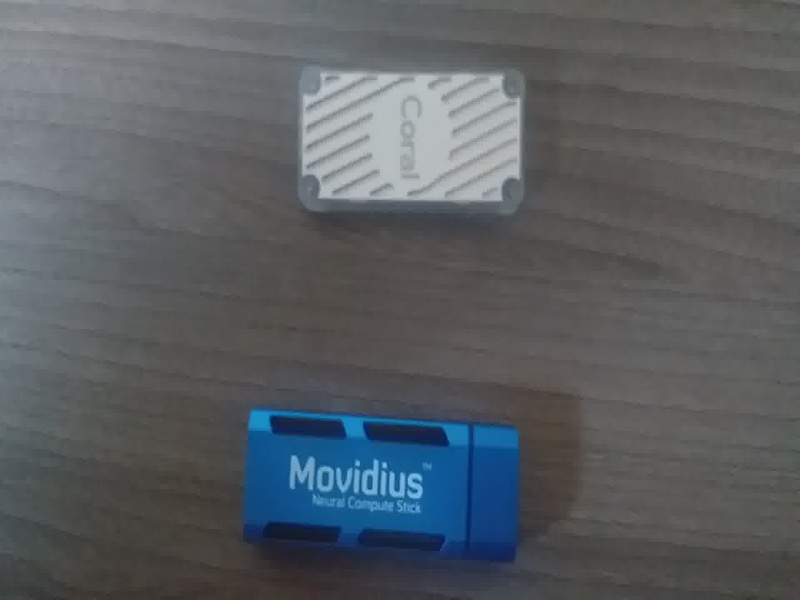coral: (290, 57, 540, 230)
movidius: (241, 398, 532, 570)
